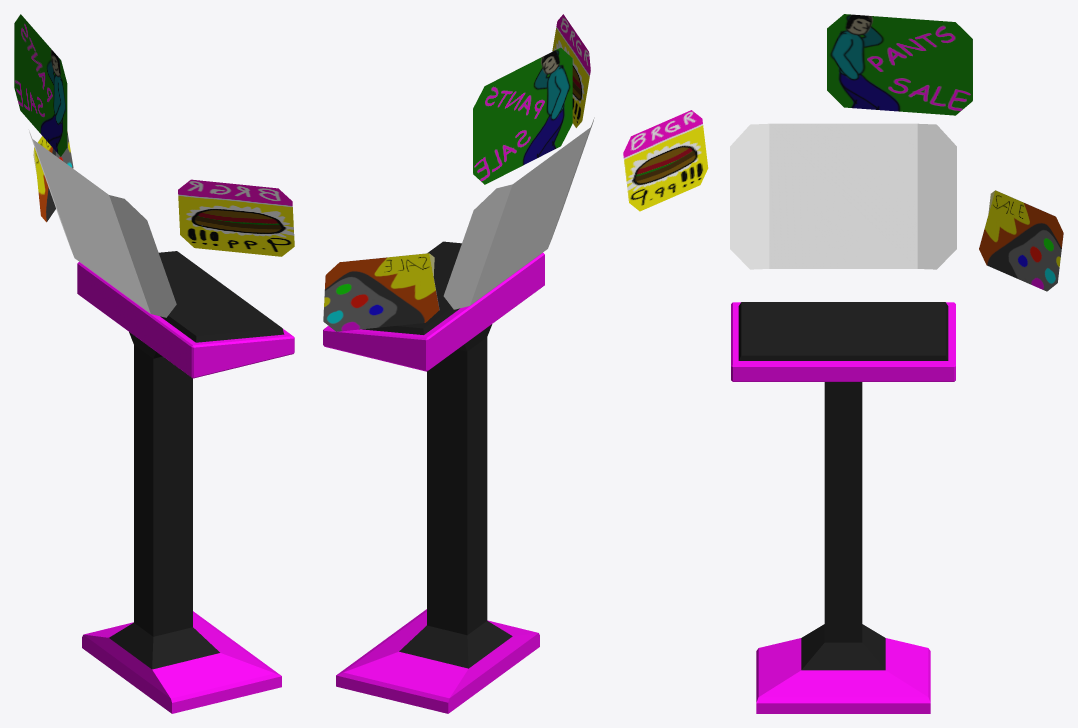
File: SavePointTerminal.fbx
3 views of the same model, side by side, from view 1: azimuth 30°, elevation 25°; view 2: azimuth 150°, elevation 25°; view 3: azimuth 270°, elevation 25° (orthographic). The views are drawn at different scales.
Visible parts, largest first — view 1: Cube, Cube.001, Cube.002; view 2: Cube, Cube.001, Cube.002; view 3: Cube, Cube.002, Cube.001.
Boxes of the visible parts, left/top/right/bottom form: Cube: left=77, top=251, right=294, bottom=713; Cube.001: left=14, top=14, right=294, bottom=256; Cube.002: left=28, top=129, right=176, bottom=317; Cube: left=323, top=241, right=544, bottom=713; Cube.001: left=323, top=14, right=590, bottom=331; Cube.002: left=443, top=117, right=594, bottom=309; Cube: left=731, top=302, right=955, bottom=713; Cube.002: left=730, top=123, right=956, bottom=269; Cube.001: left=623, top=14, right=1063, bottom=291.
Size of the model in its own units: 705 by 321 by 1089.
